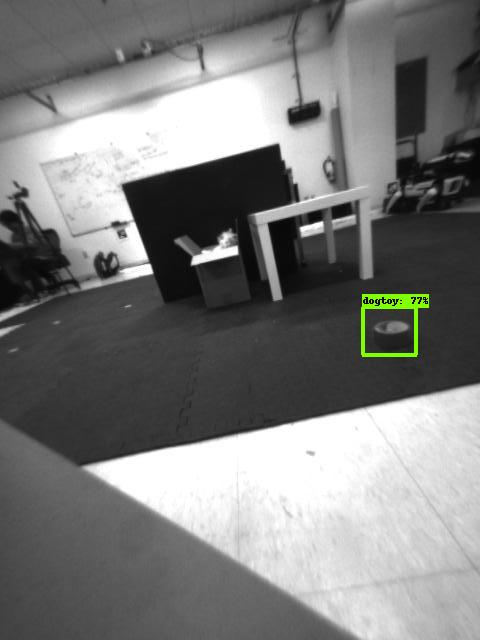dogtoy: (363, 312, 412, 352)
